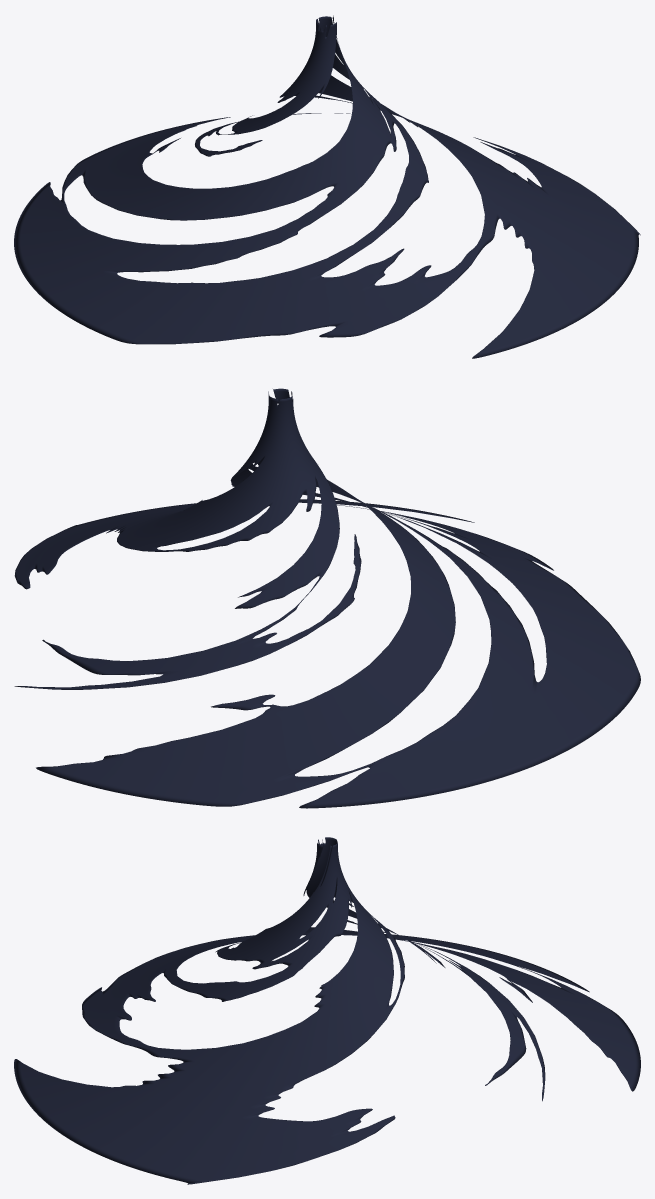
The model's file is Tornbiggl.fbx.
3 renders of one model, top to bottom at view 1: azimuth 30°, elevation 25°; view 2: azimuth 150°, elevation 25°; view 3: azimuth 270°, elevation 25°, orthographic. The views are drawn at different scales.
Parts seen in each view (by area): view 1: Tornado1.001; view 2: Tornado1.001; view 3: Tornado1.001.
Part boxes in pixels (x1=…): Tornado1.001: x1=14, y1=15, x2=640, y2=358; Tornado1.001: x1=14, y1=388, x2=640, y2=808; Tornado1.001: x1=14, y1=837, x2=640, y2=1184.
Size of the model in its own units: 12955 by 5422 by 13601.
